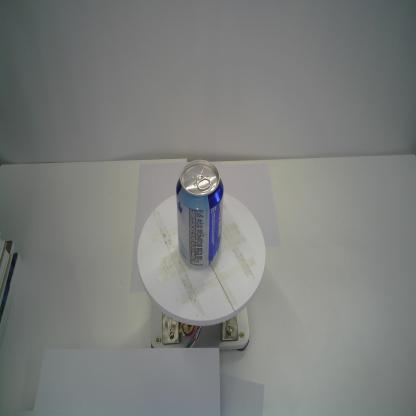Alcohol: (173, 158, 225, 273)
